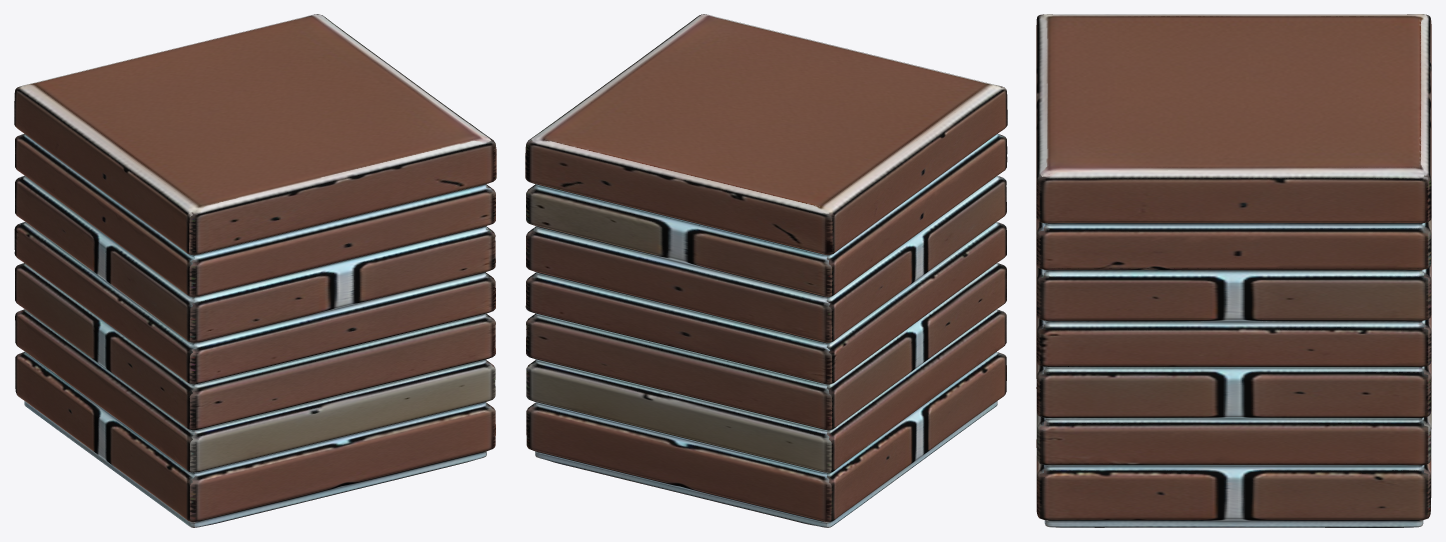
The model's file is wall-brick-corner.glb.
3 views of the same model, side by side, from view 1: azimuth 30°, elevation 25°; view 2: azimuth 150°, elevation 25°; view 3: azimuth 270°, elevation 25° (orthographic). The views are drawn at different scales.
Visible parts, largest first — view 1: tmp3nukl06c.ply; view 2: tmp3nukl06c.ply; view 3: tmp3nukl06c.ply.
Boxes of the visible parts, x1,y1,x2,y2 form: tmp3nukl06c.ply: [14, 14, 496, 527]; tmp3nukl06c.ply: [525, 14, 1007, 527]; tmp3nukl06c.ply: [1036, 14, 1431, 527].
Size of the model in its own units: 1 by 1 by 1.
Materials: 1 (1 with a texture image).
